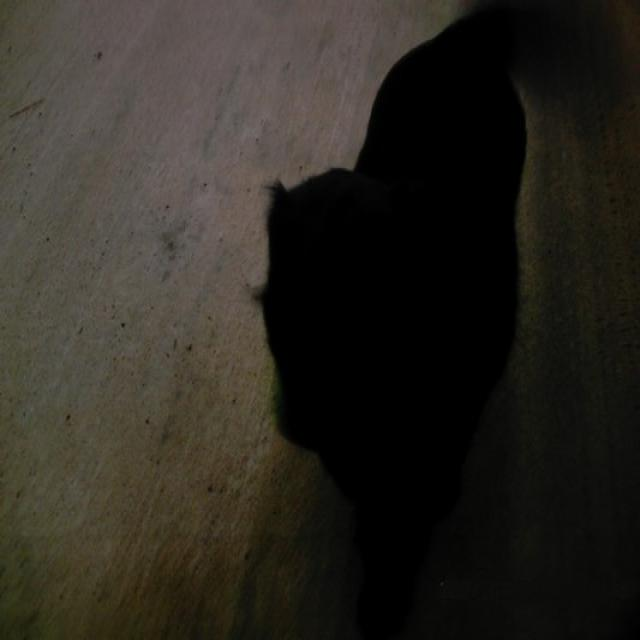Dog: (199, 12, 571, 527)
